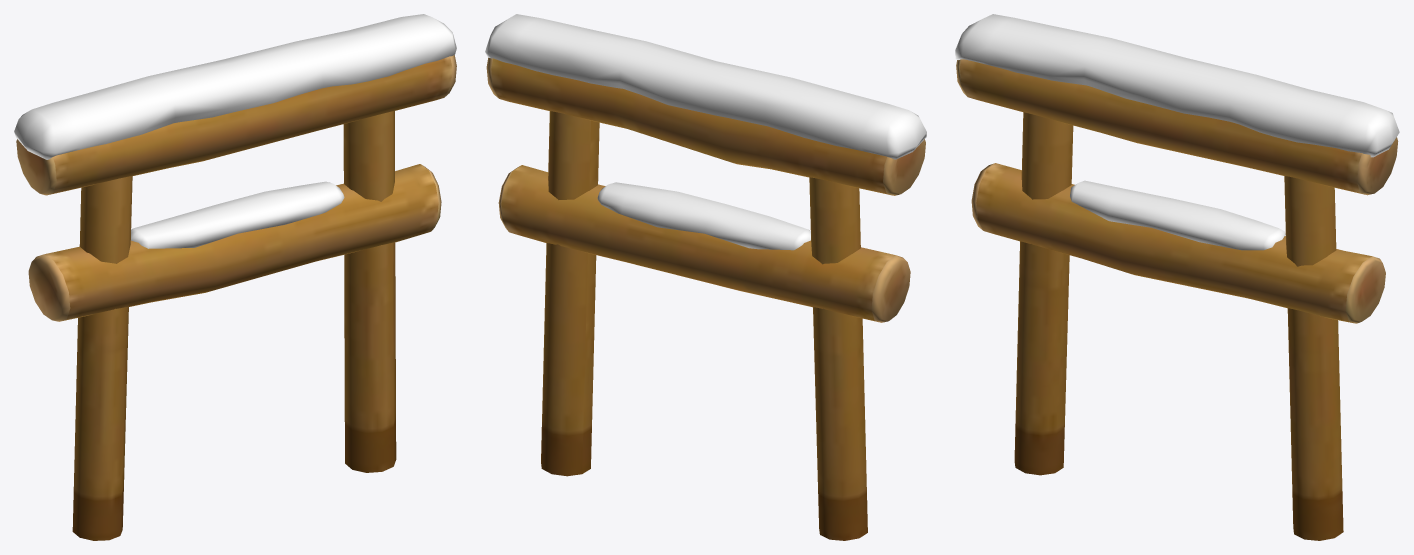
File: fence-log-a.glb
3 views of the same model, side by side, from view 1: azimuth 30°, elevation 25°; view 2: azimuth 150°, elevation 25°; view 3: azimuth 330°, elevation 25° (orthographic).
Parts seen in each view (by area): view 1: FenceHorizontalLog__FenceHorizontalLog_A_node1, FenceHorizontalLog__FenceHorizontalLog_A_node2; view 2: FenceHorizontalLog__FenceHorizontalLog_A_node1, FenceHorizontalLog__FenceHorizontalLog_A_node2; view 3: FenceHorizontalLog__FenceHorizontalLog_A_node1, FenceHorizontalLog__FenceHorizontalLog_A_node2.
Boxes of the visible parts, x1,y1,x2,y2 form: FenceHorizontalLog__FenceHorizontalLog_A_node1: (16, 55, 456, 540); FenceHorizontalLog__FenceHorizontalLog_A_node2: (14, 14, 456, 248); FenceHorizontalLog__FenceHorizontalLog_A_node1: (486, 57, 925, 540); FenceHorizontalLog__FenceHorizontalLog_A_node2: (485, 14, 926, 250); FenceHorizontalLog__FenceHorizontalLog_A_node1: (956, 59, 1398, 540); FenceHorizontalLog__FenceHorizontalLog_A_node2: (955, 14, 1399, 250).
Size of the model in its own units: 1.02 by 1 by 0.1649.
2 materials, 1 textured.
